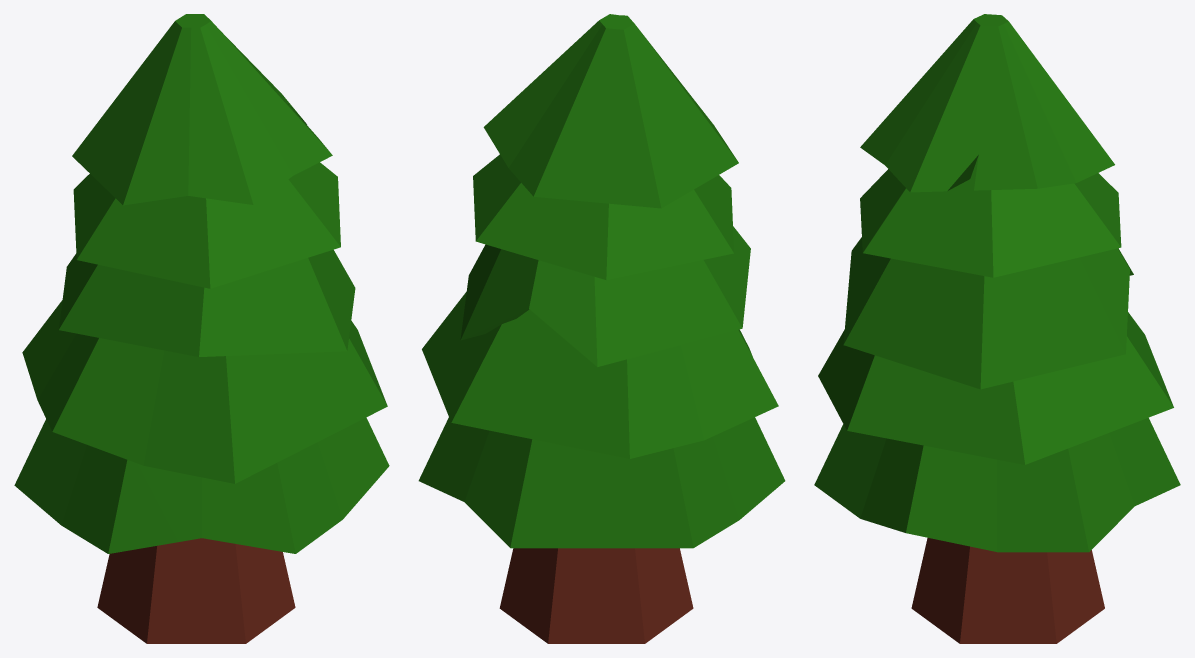
File: Low Poly Tree .fbx
3 renders of one model, left to right at view 1: azimuth 30°, elevation 25°; view 2: azimuth 150°, elevation 25°; view 3: azimuth 270°, elevation 25°, orthographic. The views are drawn at different scales.
Visible parts, largest first — view 1: Cylinder.002_2, Cylinder.005_5, Cylinder.001_1, Cylinder.003_3, Cylinder.004_4, Cylinder_0; view 2: Cylinder.002_2, Cylinder.001_1, Cylinder.005_5, Cylinder.003_3, Cylinder.004_4, Cylinder_0; view 3: Cylinder.001_1, Cylinder.003_3, Cylinder.005_5, Cylinder.002_2, Cylinder.004_4, Cylinder_0.
Part boxes in pixels (<box>): Cylinder.002_2: <box>22,300,387,483</box>; Cylinder.005_5: <box>72,14,332,205</box>; Cylinder.001_1: <box>14,417,389,553</box>; Cylinder.003_3: <box>58,249,355,356</box>; Cylinder.004_4: <box>73,162,340,288</box>; Cylinder_0: <box>97,538,295,643</box>; Cylinder.002_2: <box>422,292,778,458</box>; Cylinder.001_1: <box>418,417,785,548</box>; Cylinder.005_5: <box>483,14,738,208</box>; Cylinder.003_3: <box>460,226,750,366</box>; Cylinder.004_4: <box>473,154,733,280</box>; Cylinder_0: <box>499,548,693,643</box>; Cylinder.001_1: <box>814,417,1180,552</box>; Cylinder.003_3: <box>843,237,1133,389</box>; Cylinder.005_5: <box>860,14,1114,192</box>; Cylinder.002_2: <box>818,312,1173,464</box>; Cylinder.004_4: <box>860,169,1121,277</box>; Cylinder_0: <box>911,538,1104,643</box>.
Bounding box in the file's own units: 391 × 665 × 379.
